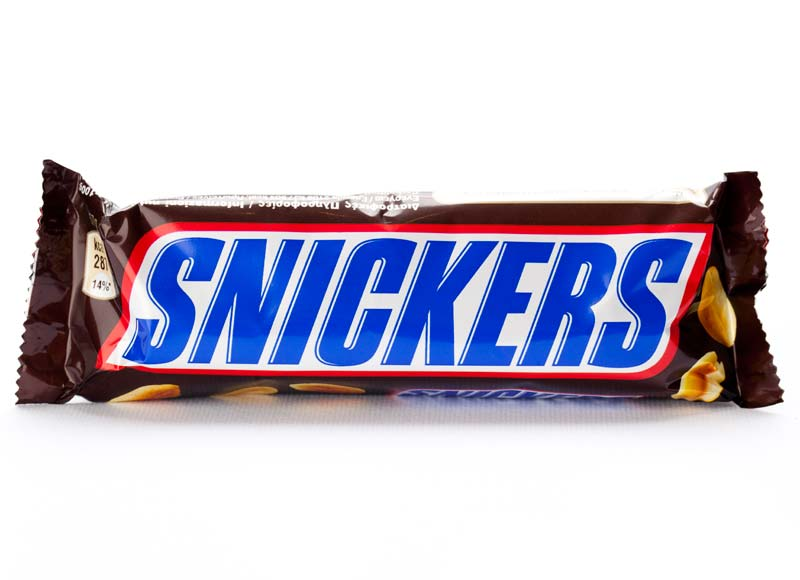snickers: (122, 236, 699, 363), (396, 387, 640, 400), (407, 387, 640, 400)
